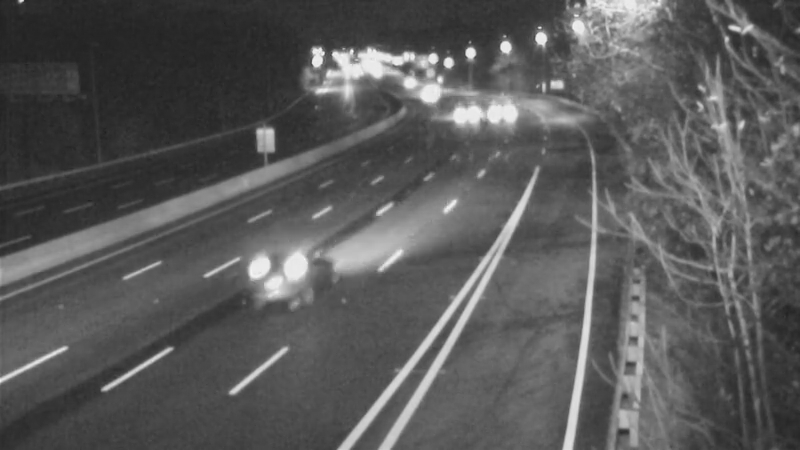vehicle: (234, 233, 314, 313), (381, 56, 431, 106), (406, 70, 456, 120), (435, 86, 485, 136), (471, 83, 521, 133)
